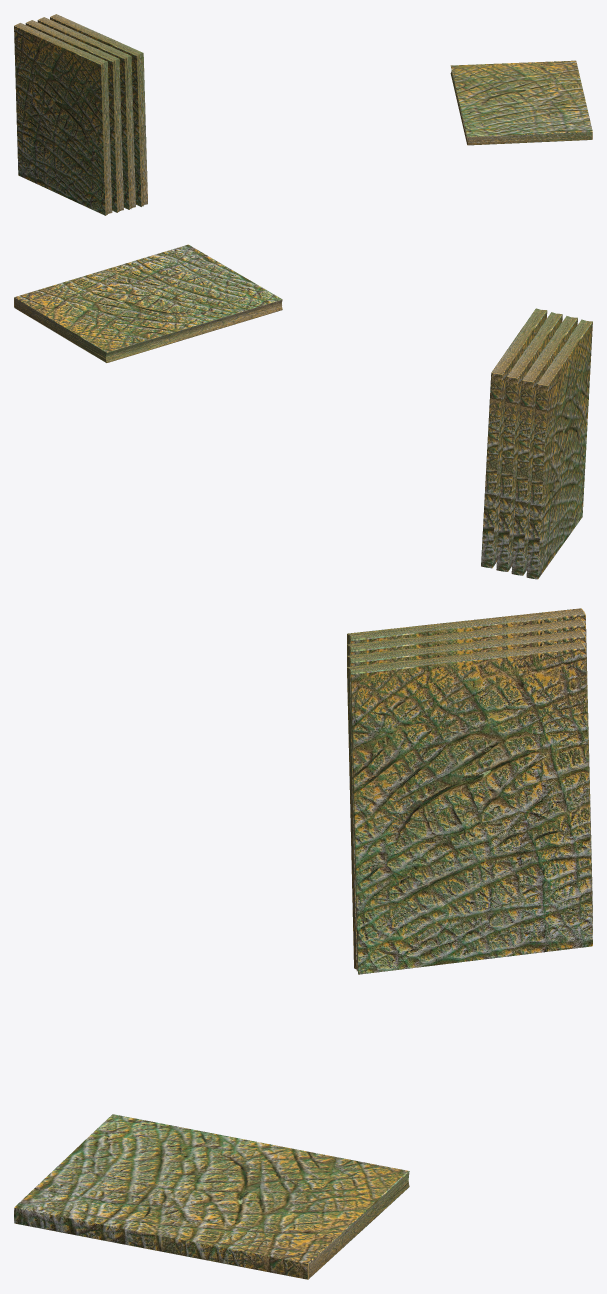
File: Libros.obj
3 renders of one model, top to bottom at view 1: azimuth 30°, elevation 25°; view 2: azimuth 150°, elevation 25°; view 3: azimuth 270°, elevation 25°, orthographic. The views are drawn at different scales.
Parts seen in each view (by area): view 1: Libro1:AI30_005_books_001_03, Libro:AI30_005_books_001_03, Libro2:AI30_005_books_001_03 group, Libro3:AI30_005_books_001_03 group1, Libro4:AI30_005_books_001_03 group2; view 2: Libro:AI30_005_books_001_03, Libro1:AI30_005_books_001_03, Libro2:AI30_005_books_001_03 group, Libro3:AI30_005_books_001_03 group1, Libro4:AI30_005_books_001_03 group2; view 3: Libro2:AI30_005_books_001_03 group, Libro:AI30_005_books_001_03, Libro3:AI30_005_books_001_03 group1, Libro4:AI30_005_books_001_03 group2, Libro1:AI30_005_books_001_03.
Boxes of the visible parts, x1=… form: Libro1:AI30_005_books_001_03: x1=14, y1=23, x2=112, y2=215; Libro:AI30_005_books_001_03: x1=450, y1=60, x2=592, y2=145; Libro2:AI30_005_books_001_03 group: x1=50, y1=14, x2=147, y2=206; Libro3:AI30_005_books_001_03 group1: x1=37, y1=17, x2=135, y2=209; Libro4:AI30_005_books_001_03 group2: x1=25, y1=20, x2=123, y2=212; Libro:AI30_005_books_001_03: x1=14, y1=244, x2=282, y2=362; Libro1:AI30_005_books_001_03: x1=526, y1=319, x2=592, y2=579; Libro2:AI30_005_books_001_03 group: x1=481, y1=308, x2=547, y2=568; Libro3:AI30_005_books_001_03 group1: x1=496, y1=312, x2=562, y2=571; Libro4:AI30_005_books_001_03 group2: x1=511, y1=316, x2=577, y2=575; Libro2:AI30_005_books_001_03 group: x1=347, y1=642, x2=592, y2=974; Libro:AI30_005_books_001_03: x1=14, y1=1114, x2=409, y2=1279; Libro3:AI30_005_books_001_03 group1: x1=347, y1=630, x2=592, y2=934; Libro4:AI30_005_books_001_03 group2: x1=347, y1=619, x2=592, y2=923; Libro1:AI30_005_books_001_03: x1=347, y1=608, x2=592, y2=912.
Bounding box in the file's own units: 0.8593 × 0.2596 × 0.4576.
Materials: 5 (5 with a texture image).
